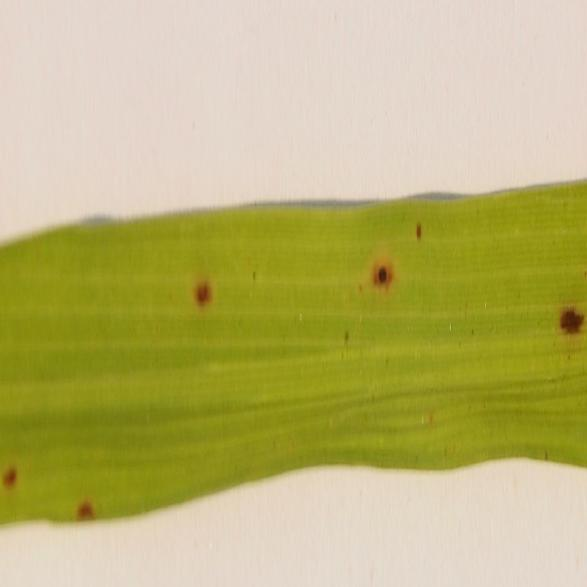Brown_Spot: (183, 256, 221, 314), (361, 252, 404, 298), (554, 288, 586, 348), (64, 481, 100, 527), (1, 457, 22, 505), (414, 212, 425, 257)
